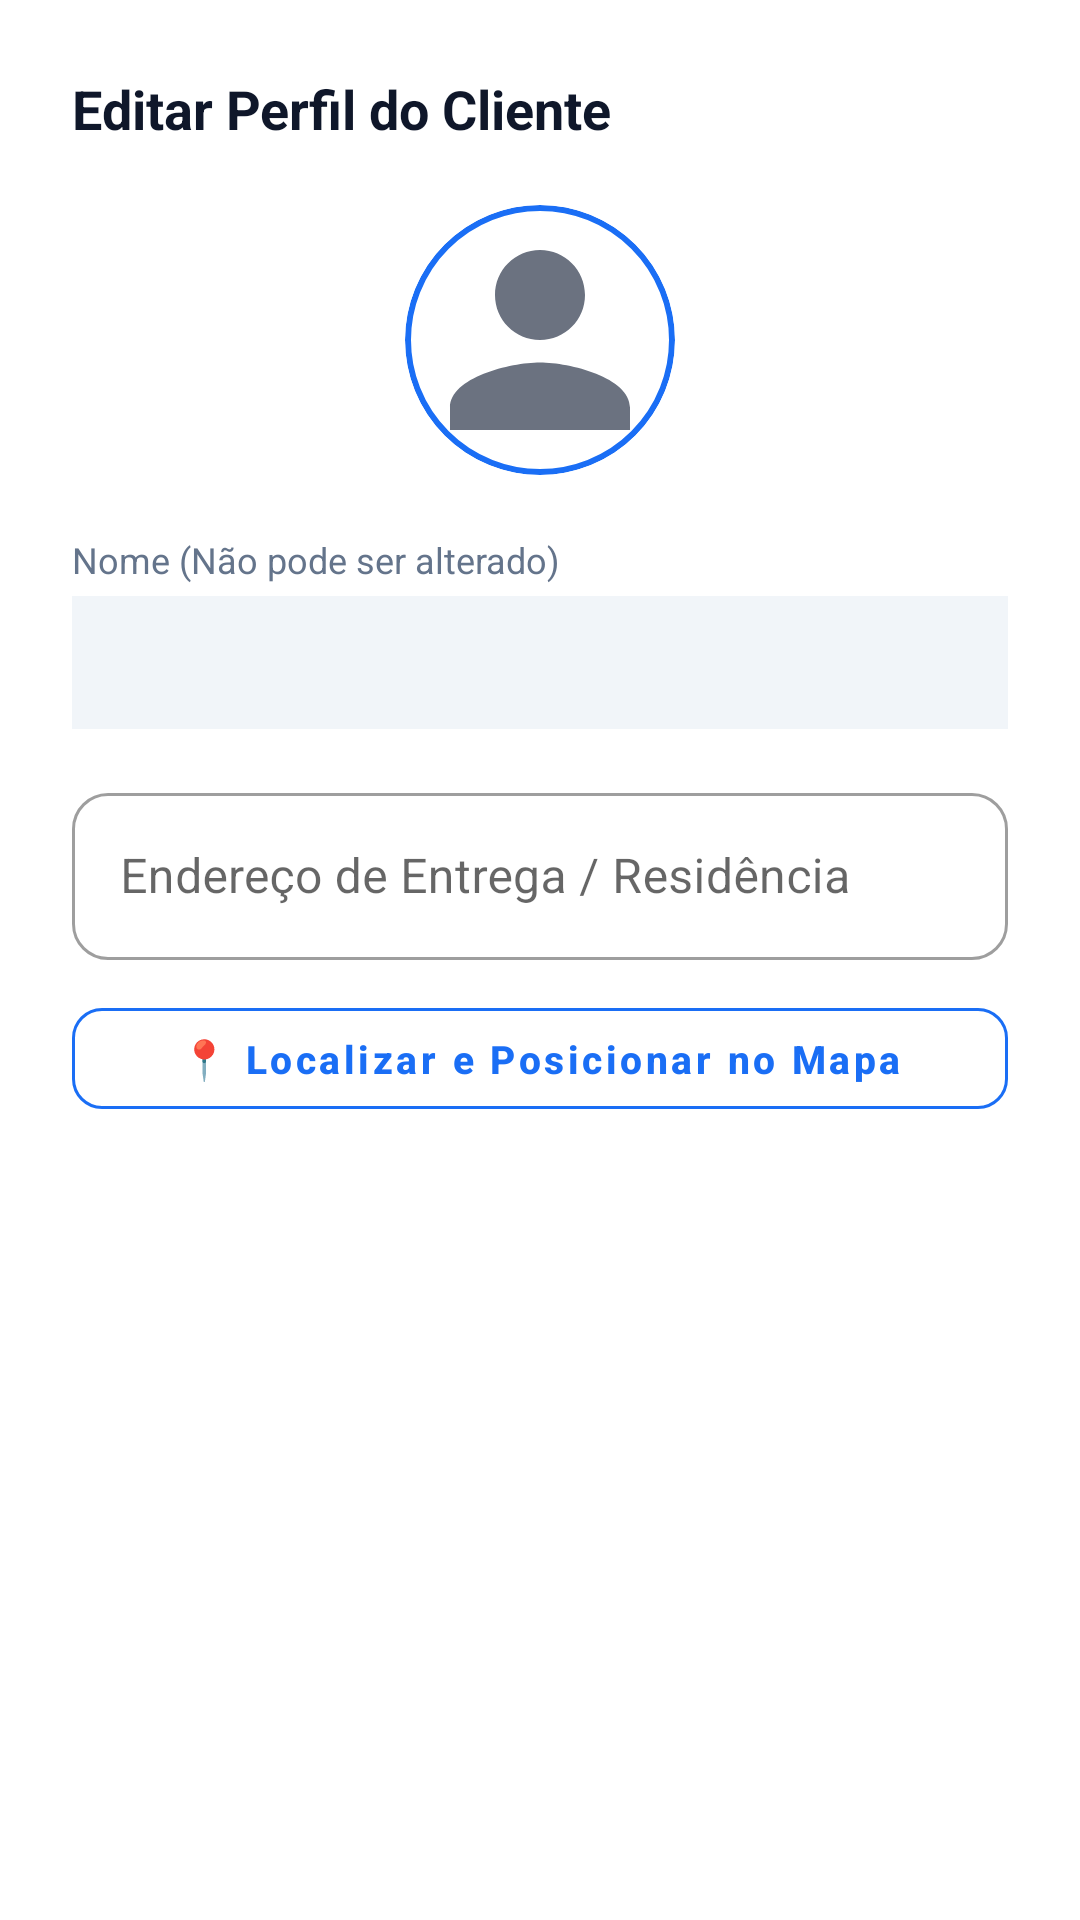

Point at icon controls on the screen. Image size 1080px×1920px, points as (x,y).
profile: (540,340)
